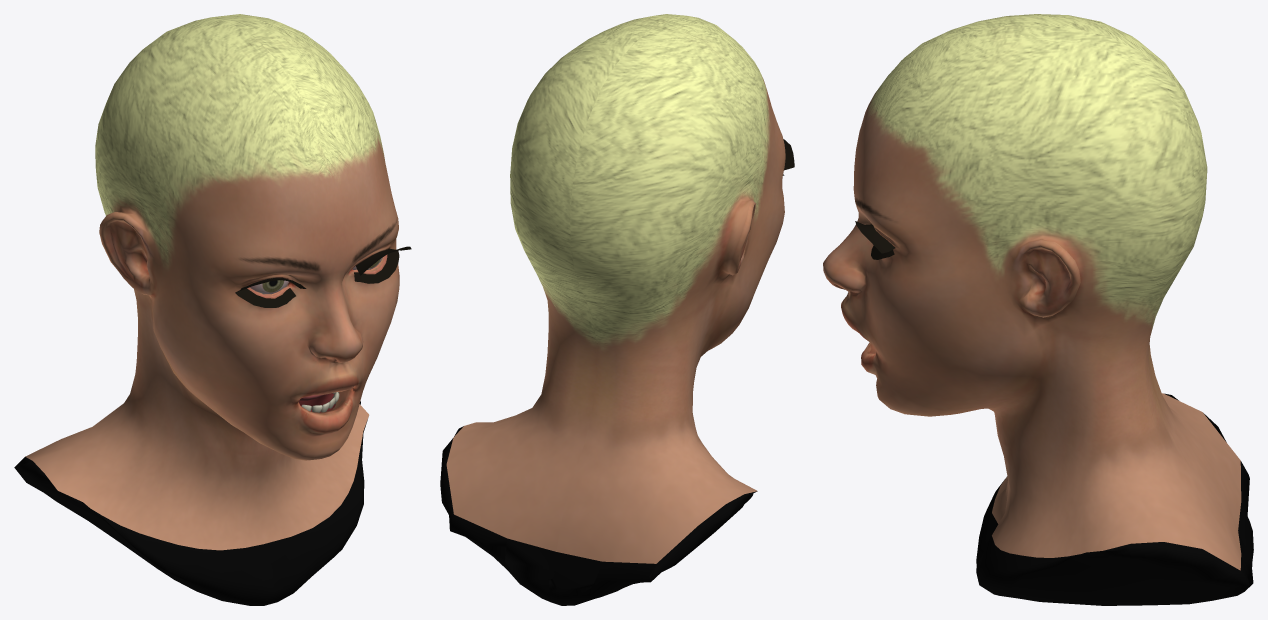
File: Head_aw.obj
The picture shows the model from 3 angles, left to right: view 1: azimuth 30°, elevation 25°; view 2: azimuth 150°, elevation 25°; view 3: azimuth 270°, elevation 25°; orthographic projection. The views are drawn at different scales.
Parts seen in each view (by area): view 1: BodyParts; view 2: BodyParts; view 3: BodyParts.
Part boxes in pixels (x1=…): BodyParts: x1=14, y1=14, x2=411, y2=605; BodyParts: x1=440, y1=14, x2=794, y2=605; BodyParts: x1=823, y1=14, x2=1253, y2=605.
Size of the model in its own units: 21.19 by 35.94 by 24.44.
Materials: 2 (2 with a texture image).
